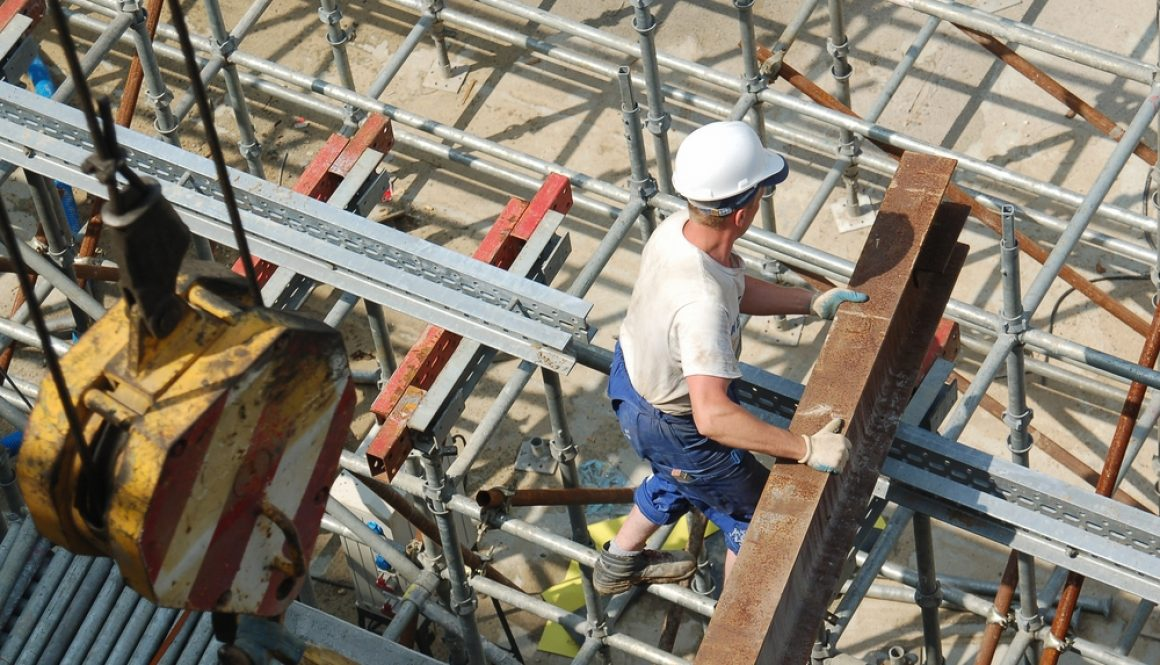hard hat: (670, 120, 784, 199)
